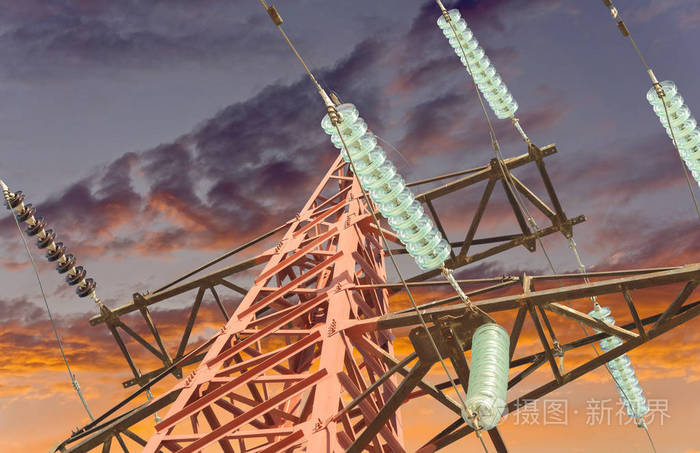insulator: (321, 102, 451, 273), (4, 189, 94, 297), (438, 8, 518, 119), (590, 304, 648, 420), (646, 79, 700, 181), (465, 324, 511, 426)
